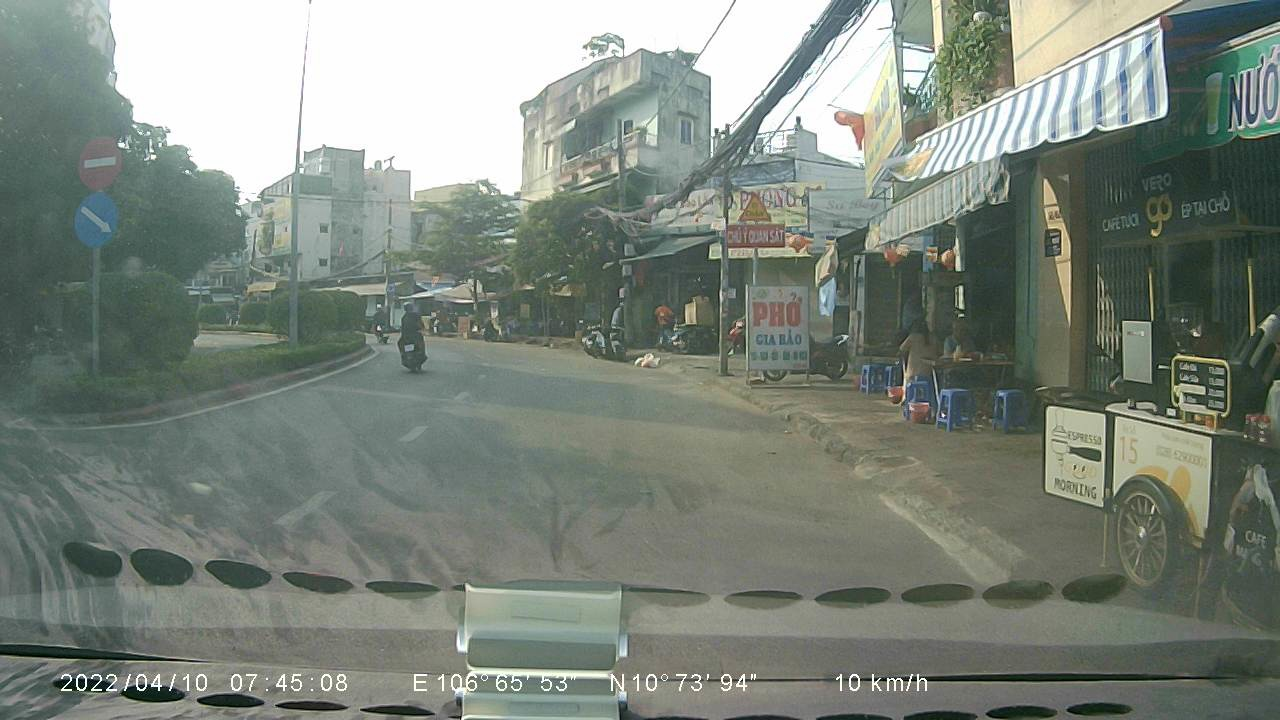Bien khac: (734, 191, 774, 222)
Cam di nguoc chieu: (75, 132, 124, 191)
Huong di phai re phai: (68, 191, 123, 247)
